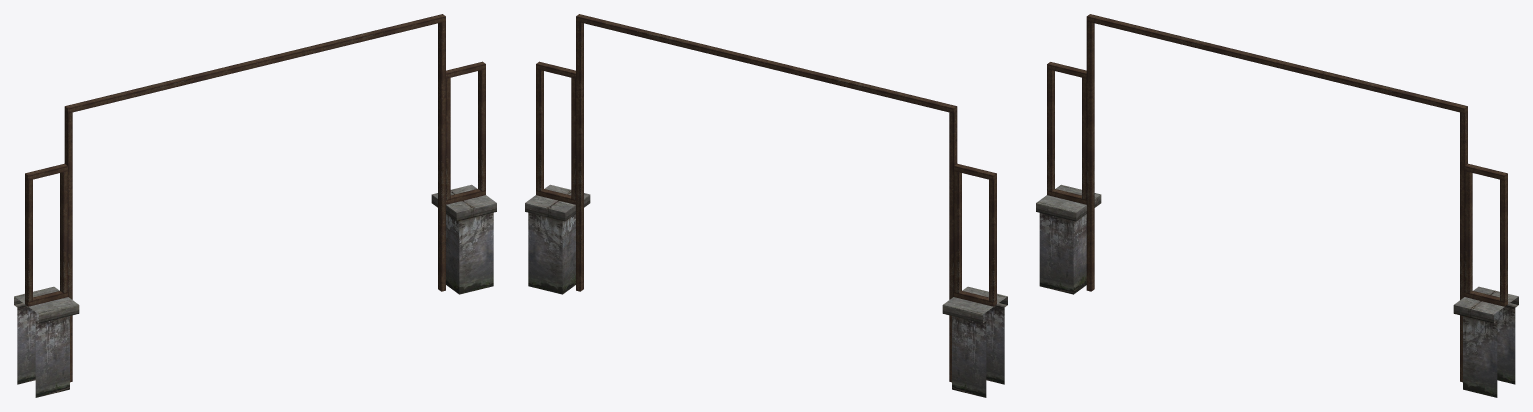
The model's file is Concrete_fence_v2_Gate.001.glb.
3 renders of one model, left to right at view 1: azimuth 30°, elevation 25°; view 2: azimuth 150°, elevation 25°; view 3: azimuth 330°, elevation 25°, orthographic.
Parts seen in each view (by area): view 1: Concrete_fence_v2_Gate.001; view 2: Concrete_fence_v2_Gate.001; view 3: Concrete_fence_v2_Gate.001.
Boxes of the visible parts, <box> form: Concrete_fence_v2_Gate.001: <box>14,14,496,397</box>; Concrete_fence_v2_Gate.001: <box>525,14,1007,397</box>; Concrete_fence_v2_Gate.001: <box>1036,14,1518,397</box>.
Size of the model in its own units: 5.67 by 3.25 by 0.5381.
Materials: 1 (1 with a texture image).
